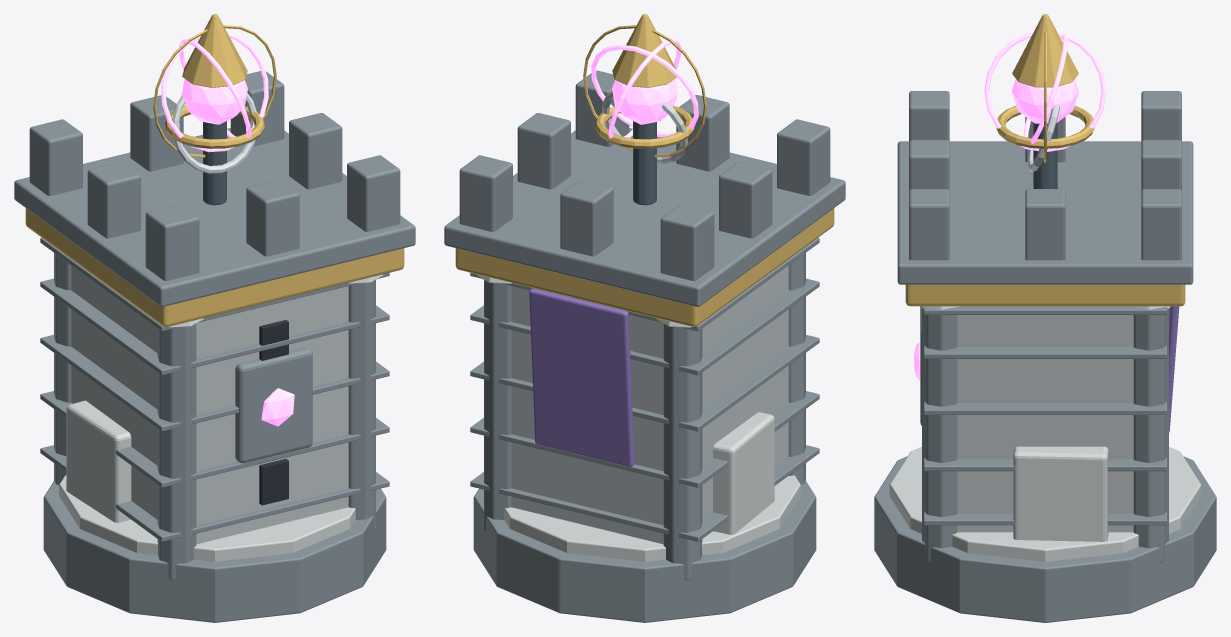
File: tower_core.glb
The picture shows the model from 3 angles, left to right: view 1: azimuth 30°, elevation 25°; view 2: azimuth 150°, elevation 25°; view 3: azimuth 270°, elevation 25°; orthographic projection.
Parts seen in each view (by area): view 1: TowerBody.001, CrownStone.001, Foundation.002, Corner_-0.92_-0.92, CrownBand.001, CrestPlate.001, FoundationTrim.001, Corner_0.92_-0.92, CoreButtress-1.02, CoreMasonryRail2.45, MerlonA_-1.03_-1.03, MerlonA_1.03_-1.03 (+22 smaller); view 2: TowerBody.001, CrownStone.001, Foundation.002, RearBanner.001, Corner_-0.92_0.92, CrownBand.001, FoundationTrim.001, Corner_0.92_0.92, CoreButtress-1.02, MerlonA_-1.03_1.03, MerlonA_1.03_1.03, MerlonA_0_1.03 (+19 smaller); view 3: CrownStone.001, TowerBody.001, Foundation.002, CoreButtress1.02, FoundationTrim.001, Corner_0.92_0.92, Corner_0.92_-0.92, CrownBand.001, MerlonA_1.03_1.03, MerlonA_1.03_-1.03, MerlonB_1.03, CoreMasonryRail2.45 (+16 smaller).
Part boxes in pixels (bbox=[...]): TowerBody.001: bbox=[71, 265, 348, 544]; CrownStone.001: bbox=[14, 128, 415, 306]; Foundation.002: bbox=[43, 480, 386, 622]; Corner_-0.92_-0.92: bbox=[157, 324, 196, 580]; CrownBand.001: bbox=[25, 208, 404, 326]; CrestPlate.001: bbox=[235, 347, 312, 463]; FoundationTrim.001: bbox=[59, 475, 355, 561]; Corner_0.92_-0.92: bbox=[348, 280, 375, 531]; CoreButtress-1.02: bbox=[66, 400, 131, 522]; CoreMasonryRail2.45: bbox=[40, 278, 389, 375]; MerlonA_-1.03_-1.03: bbox=[145, 204, 199, 280]; MerlonA_1.03_-1.03: bbox=[347, 155, 400, 231]; TowerBody.001: bbox=[511, 265, 788, 544]; CrownStone.001: bbox=[444, 128, 845, 306]; Foundation.002: bbox=[473, 480, 816, 622]; RearBanner.001: bbox=[529, 288, 634, 466]; Corner_-0.92_0.92: bbox=[663, 324, 702, 580]; CrownBand.001: bbox=[455, 208, 834, 326]; FoundationTrim.001: bbox=[504, 475, 800, 561]; Corner_0.92_0.92: bbox=[484, 280, 511, 531]; CoreButtress-1.02: bbox=[713, 412, 774, 534]; MerlonA_-1.03_1.03: bbox=[660, 204, 714, 280]; MerlonA_1.03_1.03: bbox=[459, 155, 512, 231]; MerlonA_0_1.03: bbox=[560, 180, 613, 256]; CrownStone.001: bbox=[897, 141, 1193, 284]; TowerBody.001: bbox=[957, 315, 1133, 532]; Foundation.002: bbox=[874, 456, 1216, 622]; CoreButtress1.02: bbox=[1013, 446, 1108, 541]; FoundationTrim.001: bbox=[889, 447, 1201, 561]; Corner_0.92_0.92: bbox=[1133, 309, 1168, 562]; Corner_0.92_-0.92: bbox=[922, 309, 957, 562]; CrownBand.001: bbox=[905, 284, 1185, 306]; MerlonA_1.03_1.03: bbox=[1141, 189, 1181, 260]; MerlonA_1.03_-1.03: bbox=[909, 189, 949, 260]; MerlonB_1.03: bbox=[1025, 189, 1065, 260]; CoreMasonryRail2.45: bbox=[923, 345, 1167, 358].
Bounding box in the file's own units: 3.03 × 5.25 × 3.03.
